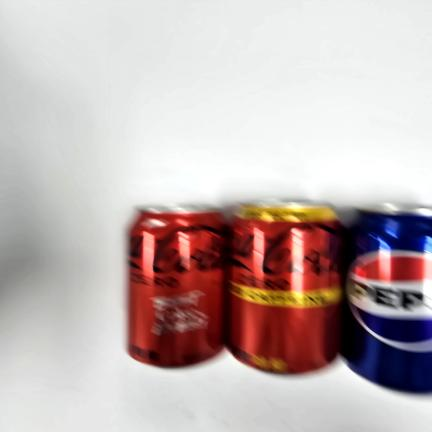can_coke_decaf: (232, 202, 344, 374)
can_coke_zero: (126, 203, 232, 372)
can_pepsi: (345, 208, 432, 397)
